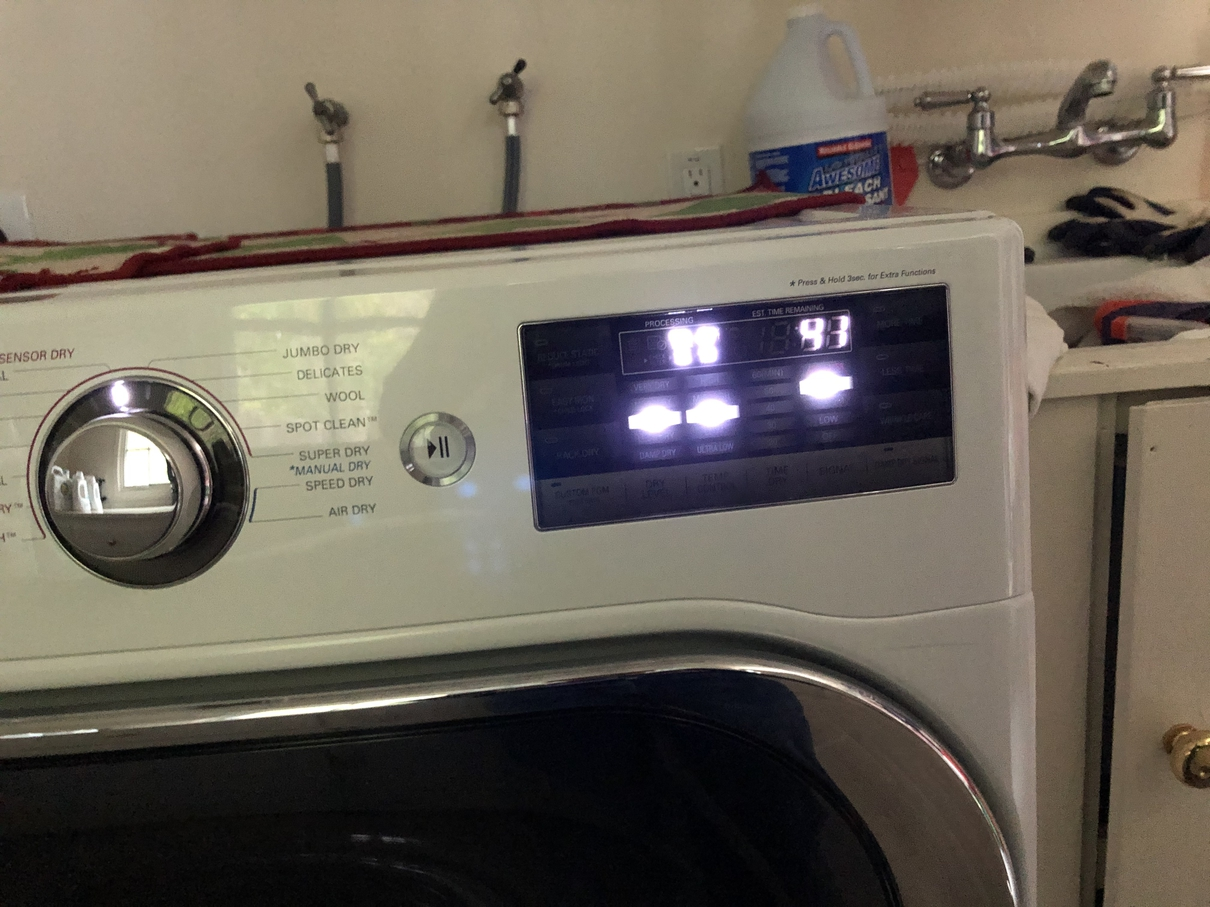status: (604, 301, 864, 382)
